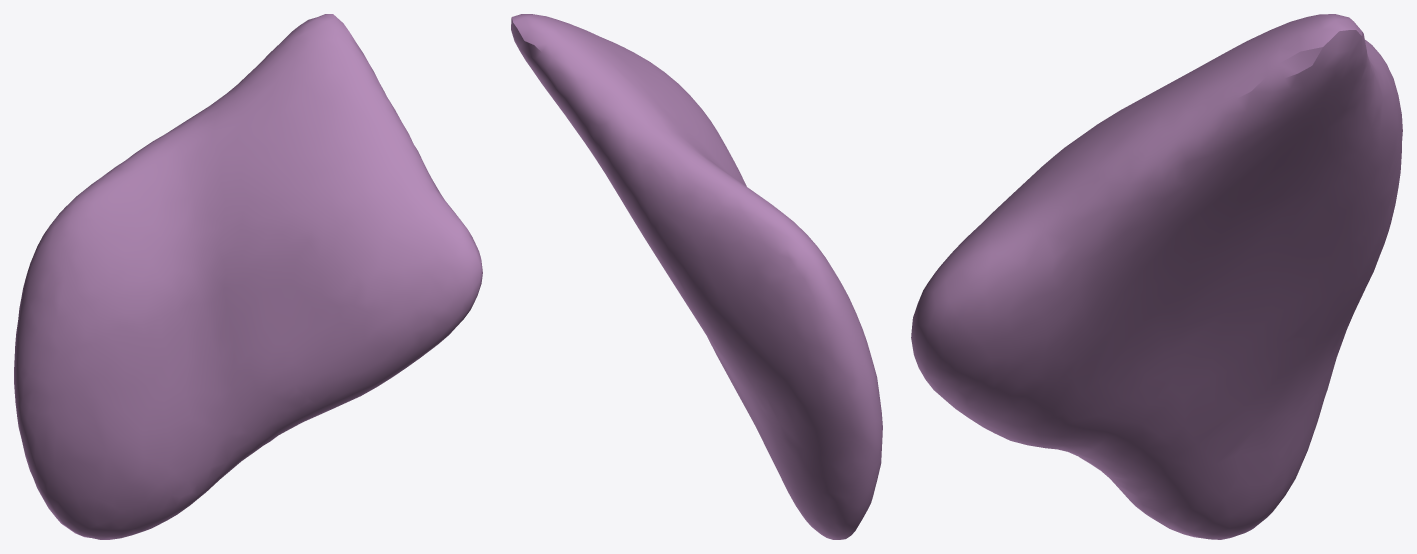
3 renders of one model, left to right at view 1: azimuth 30°, elevation 25°; view 2: azimuth 150°, elevation 25°; view 3: azimuth 270°, elevation 25°, orthographic. The views are drawn at different scales.
Visible parts, largest first — view 1: 右侧中央小叶翼; view 2: 右侧中央小叶翼; view 3: 右侧中央小叶翼.
Boxes of the visible parts, bbox=[...] form: 右侧中央小叶翼: bbox=[14, 14, 482, 539]; 右侧中央小叶翼: bbox=[511, 14, 882, 539]; 右侧中央小叶翼: bbox=[911, 14, 1402, 539].
Size of the model in its own units: 0.0256 by 0.0303 by 0.019.
